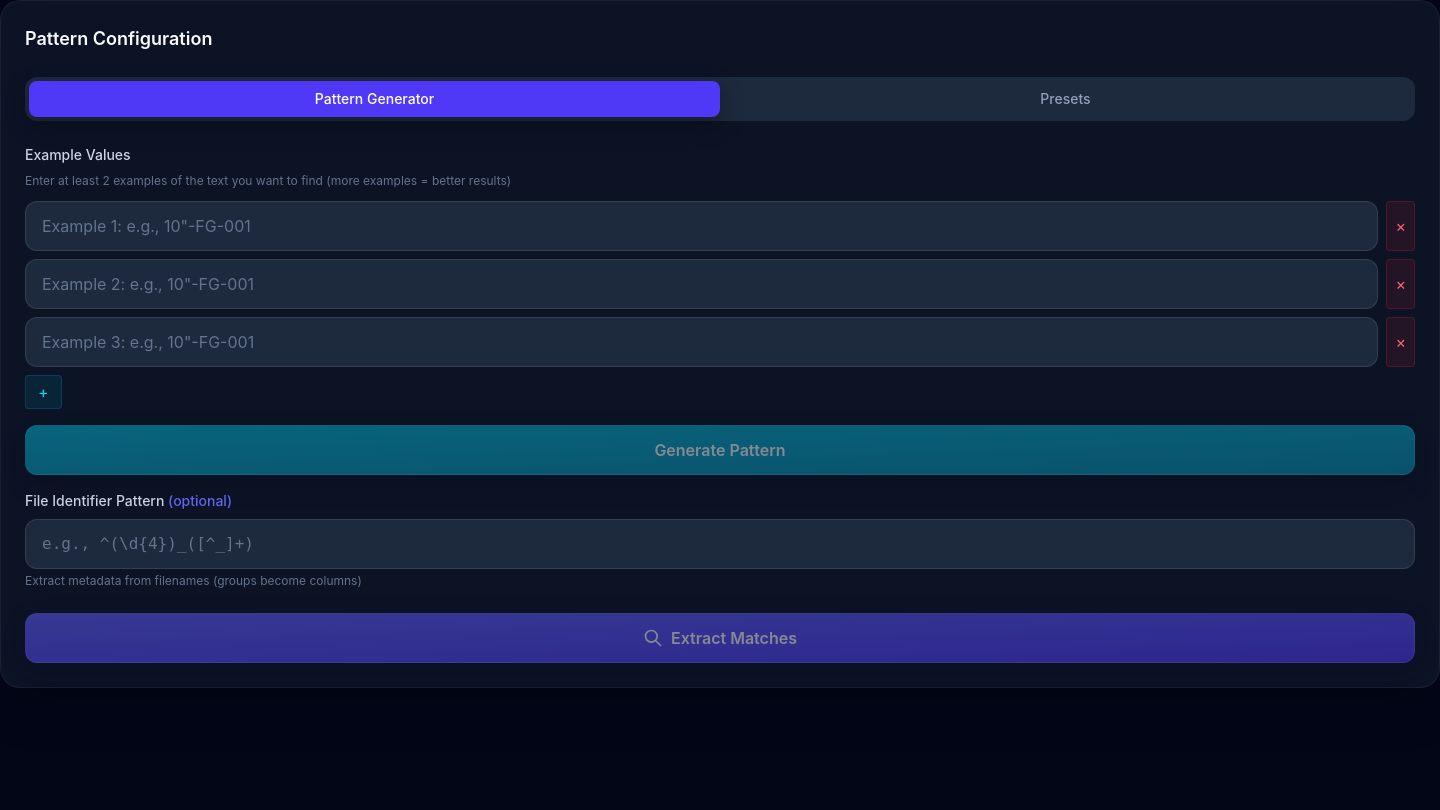
Test case: RegexConfig › displays the generated pattern on success
This screenshot has width=1440, height=810.
Type "10\"-FG-001" into the field with placeholder "Example 1: e.g., 10\"-FG-001".
click(702, 226); type("10\"-FG-001")  # box [25, 201, 1378, 251]
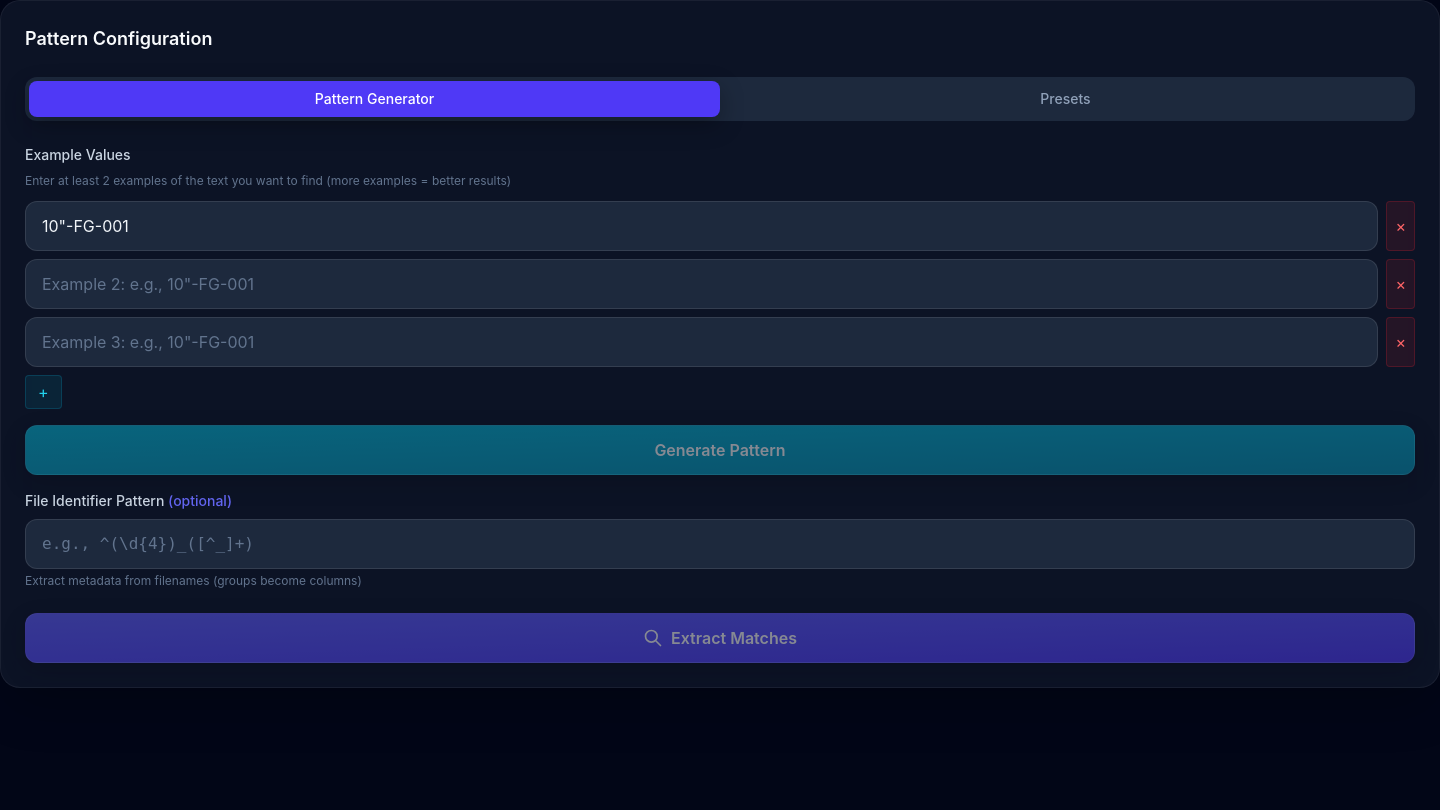
Type "2\"-CWS-505" into the field with placeholder "Example 2: e.g., 10\"-FG-001".
click(702, 284); type("2\"-CWS-505")  # box [25, 259, 1378, 309]
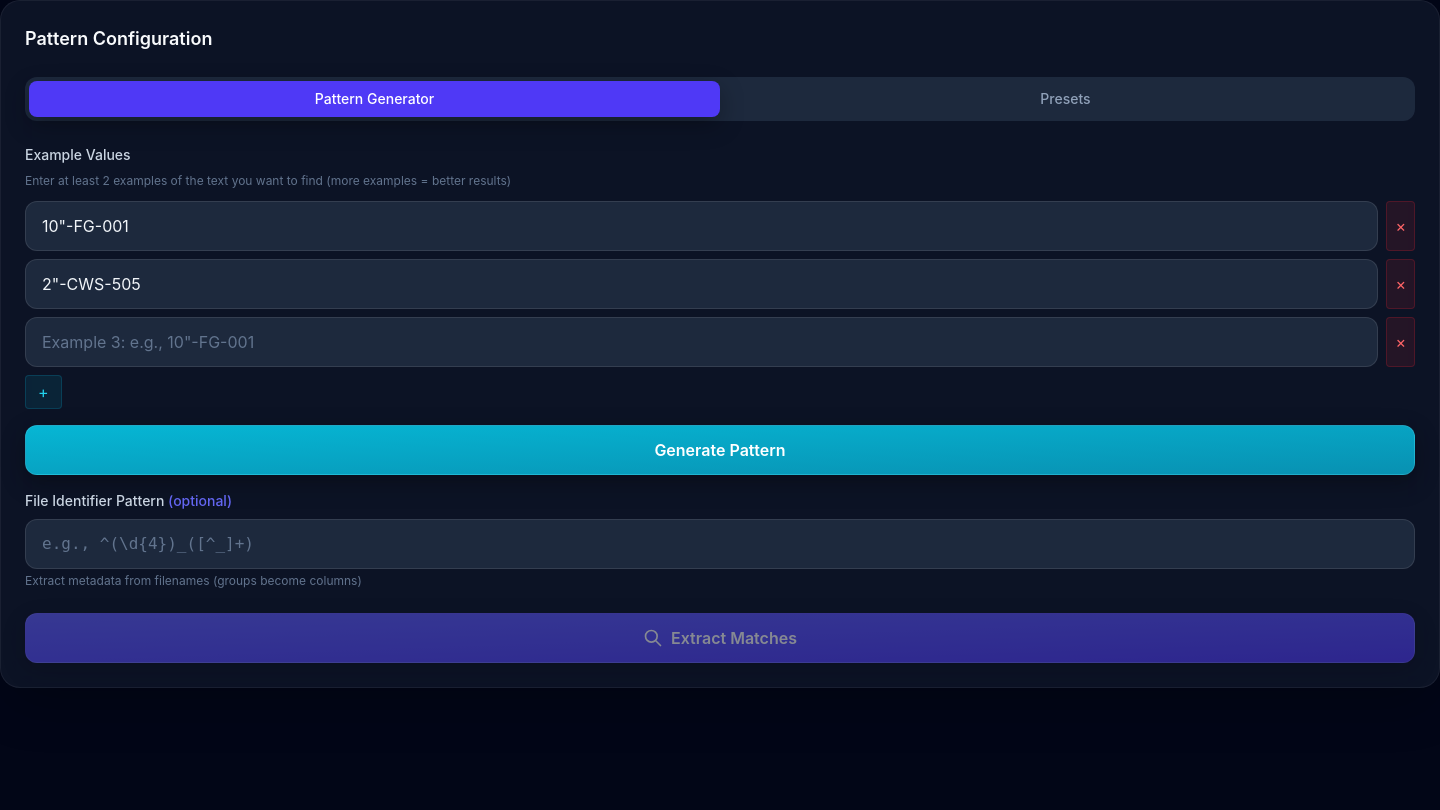
Click the button with class "btn-accent".
click(720, 450)  # box [25, 425, 1415, 475]
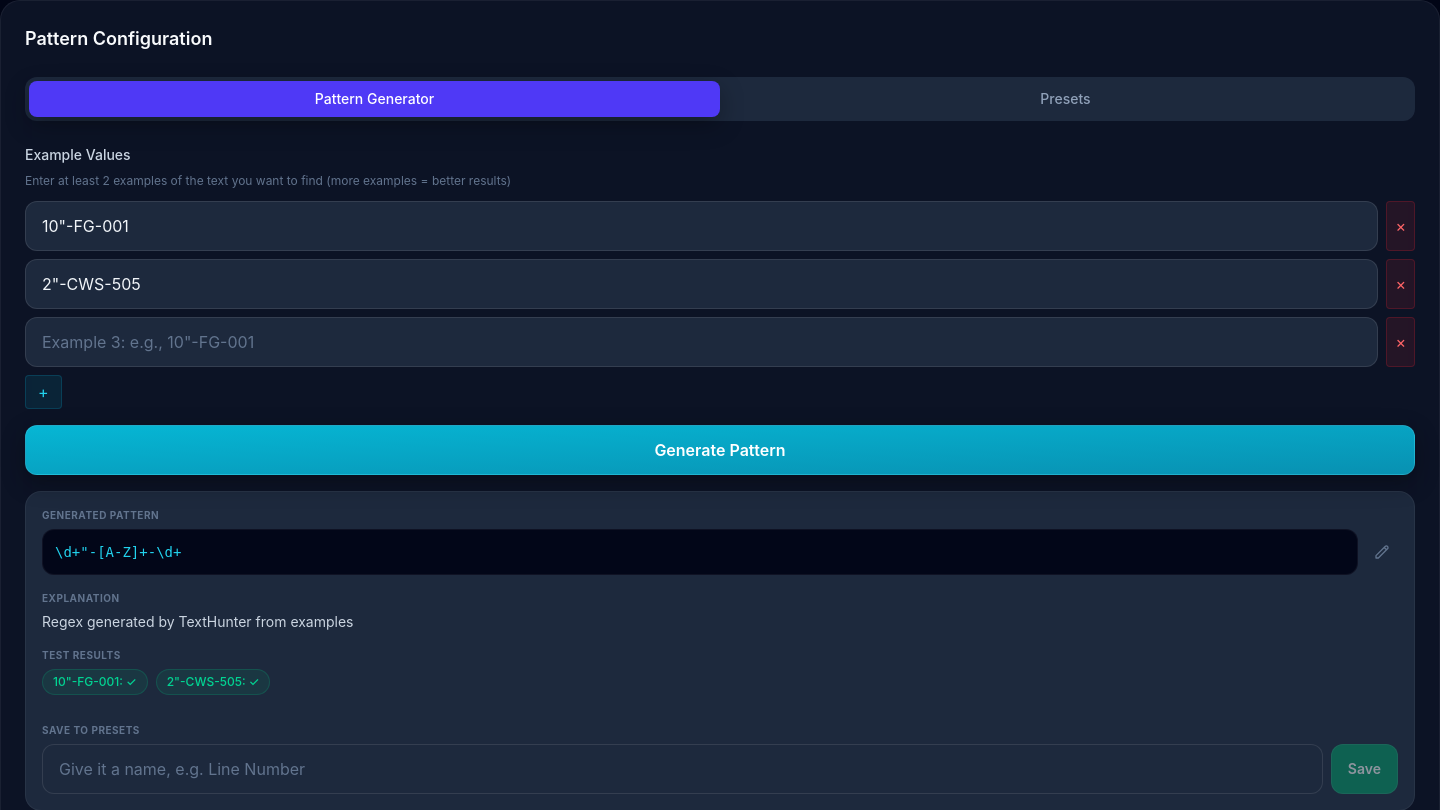
Expected: the text "\\d+\"-[A-Z]+-\\d+" is shown, [42, 529, 1358, 575]
